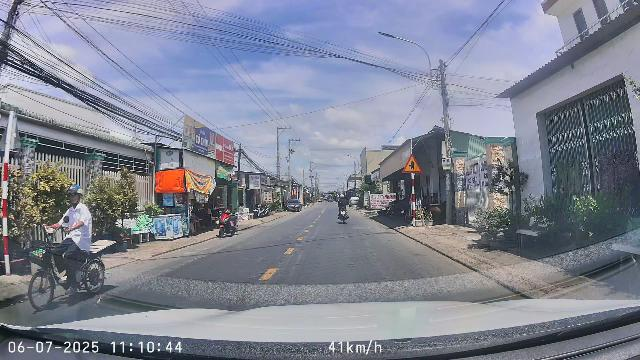207-giao-nhau-voi-duong-khong-uu-tien: (402, 154, 423, 173)
